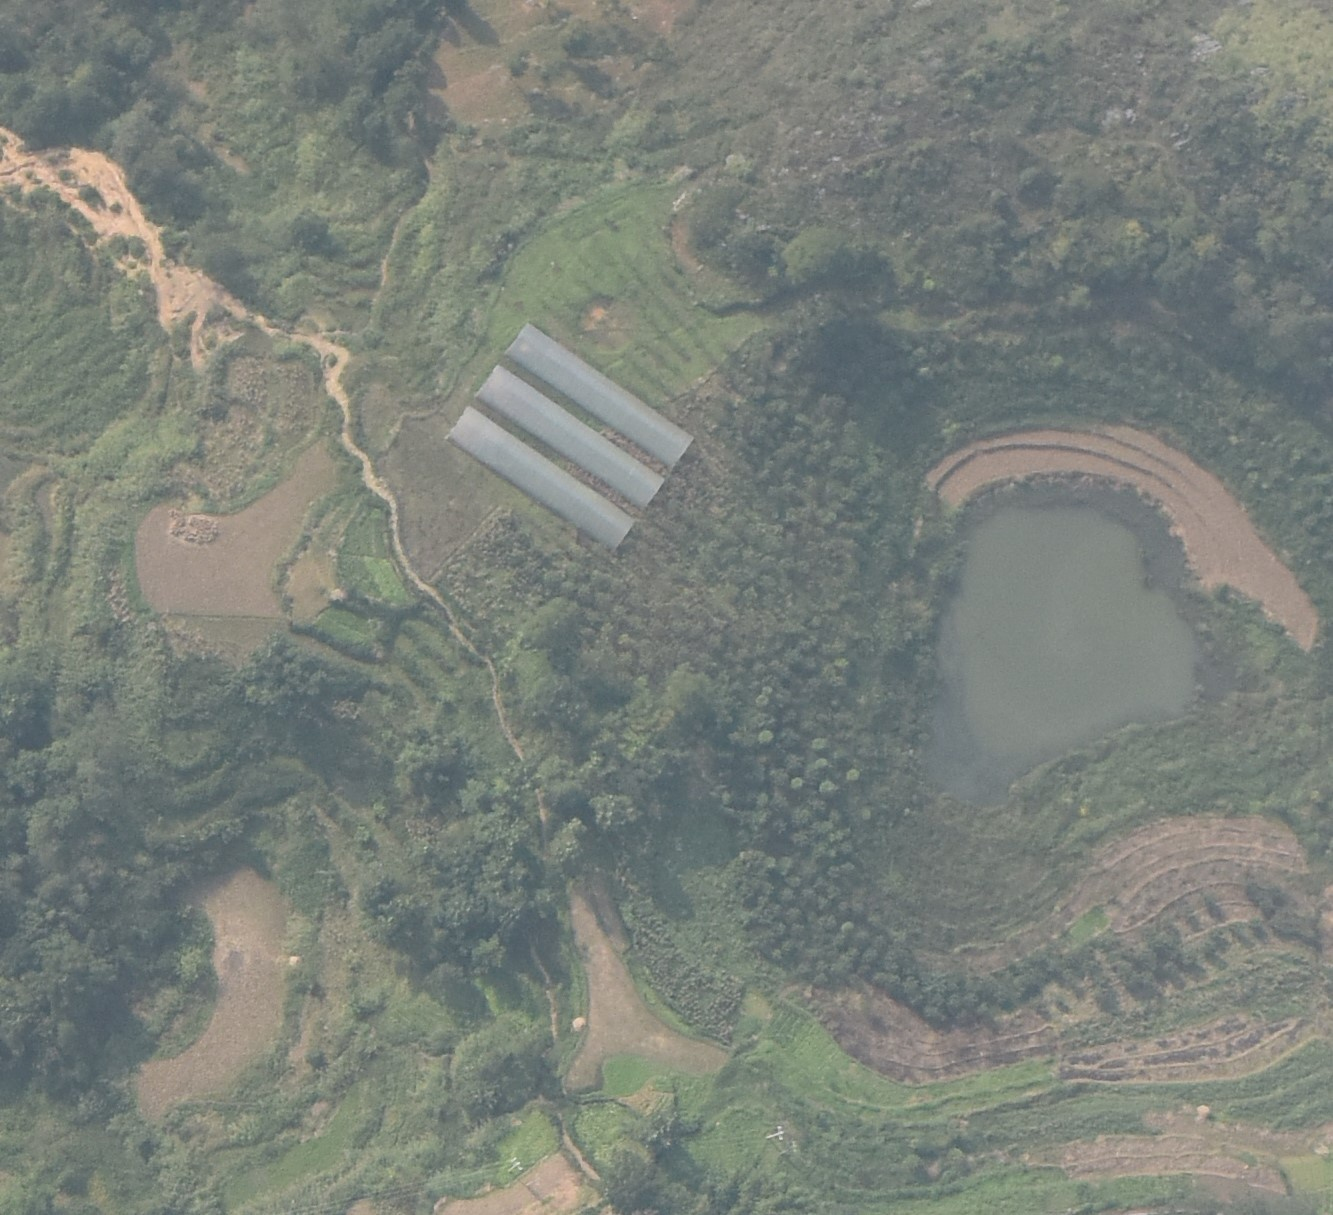cable-tower: (764, 1126, 784, 1142), (507, 1156, 523, 1173)
pool: (922, 470, 1235, 806)
prefabricated-house: (500, 322, 696, 470), (444, 405, 636, 553), (475, 366, 665, 510)
